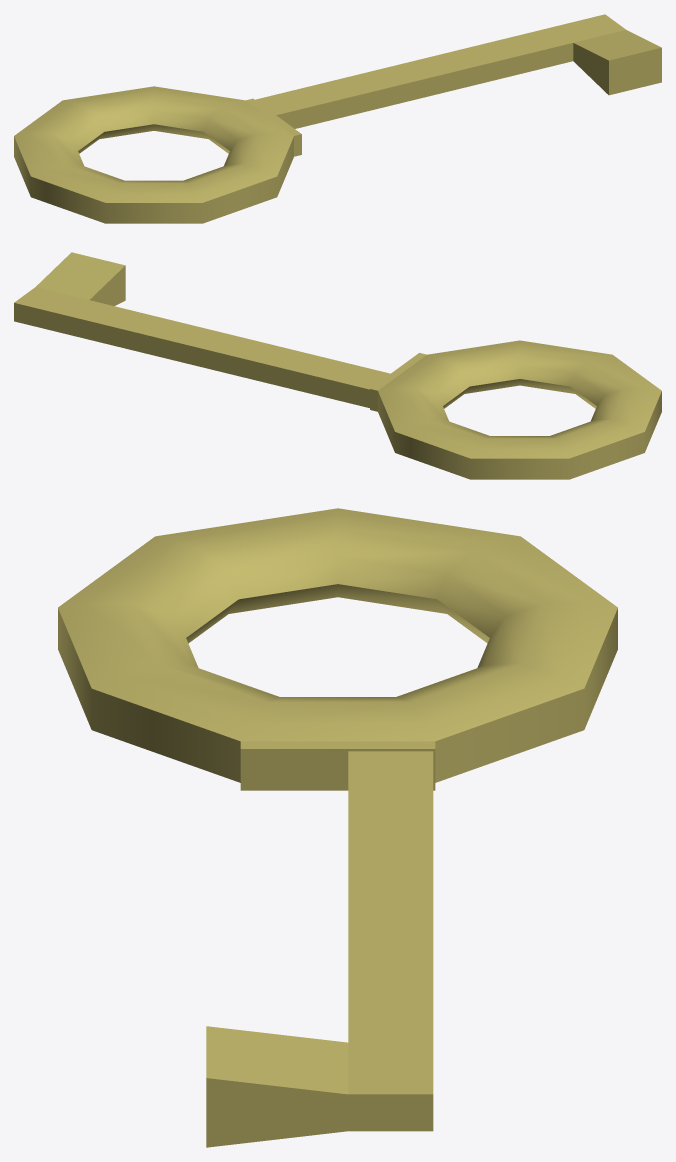
The model's file is Key.fbx.
3 renders of one model, top to bottom at view 1: azimuth 30°, elevation 25°; view 2: azimuth 150°, elevation 25°; view 3: azimuth 270°, elevation 25°, orthographic. The views are drawn at different scales.
Visible parts, largest first — view 1: Key; view 2: Key; view 3: Key.
Part boxes in pixels (box(x1,y1,x2,y2)): Key: box(14, 14, 661, 223); Key: box(14, 252, 661, 479); Key: box(58, 508, 617, 1147).
Size of the model in its own units: 0.092 by 0.00512 by 0.0373.
